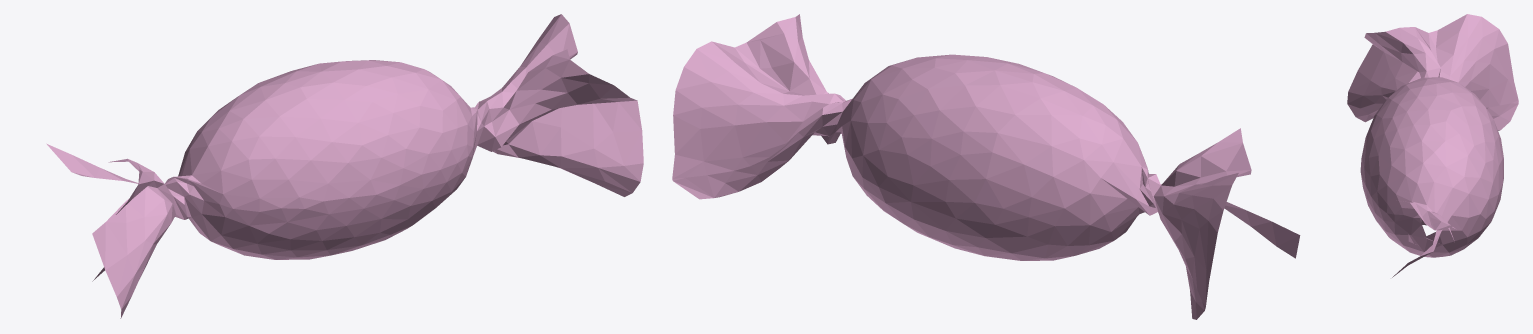
Rendered from Candy_Bullet.glb.
3 views of the same model, side by side, from view 1: azimuth 30°, elevation 25°; view 2: azimuth 150°, elevation 25°; view 3: azimuth 270°, elevation 25° (orthographic). The views are drawn at different scales.
Visible parts, largest first — view 1: small candy wrapped; view 2: small candy wrapped; view 3: small candy wrapped.
Boxes of the visible parts, x1,y1,x2,y2 form: small candy wrapped: [46, 14, 643, 318]; small candy wrapped: [672, 14, 1300, 319]; small candy wrapped: [1347, 14, 1518, 277].
Size of the model in its own units: 14.58 by 4.47 by 4.96.
